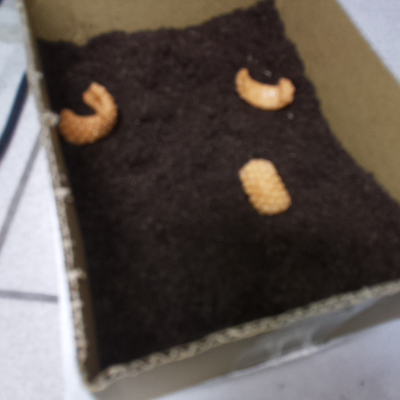eggs: (54, 76, 121, 147), (235, 154, 295, 223), (231, 65, 298, 116)
